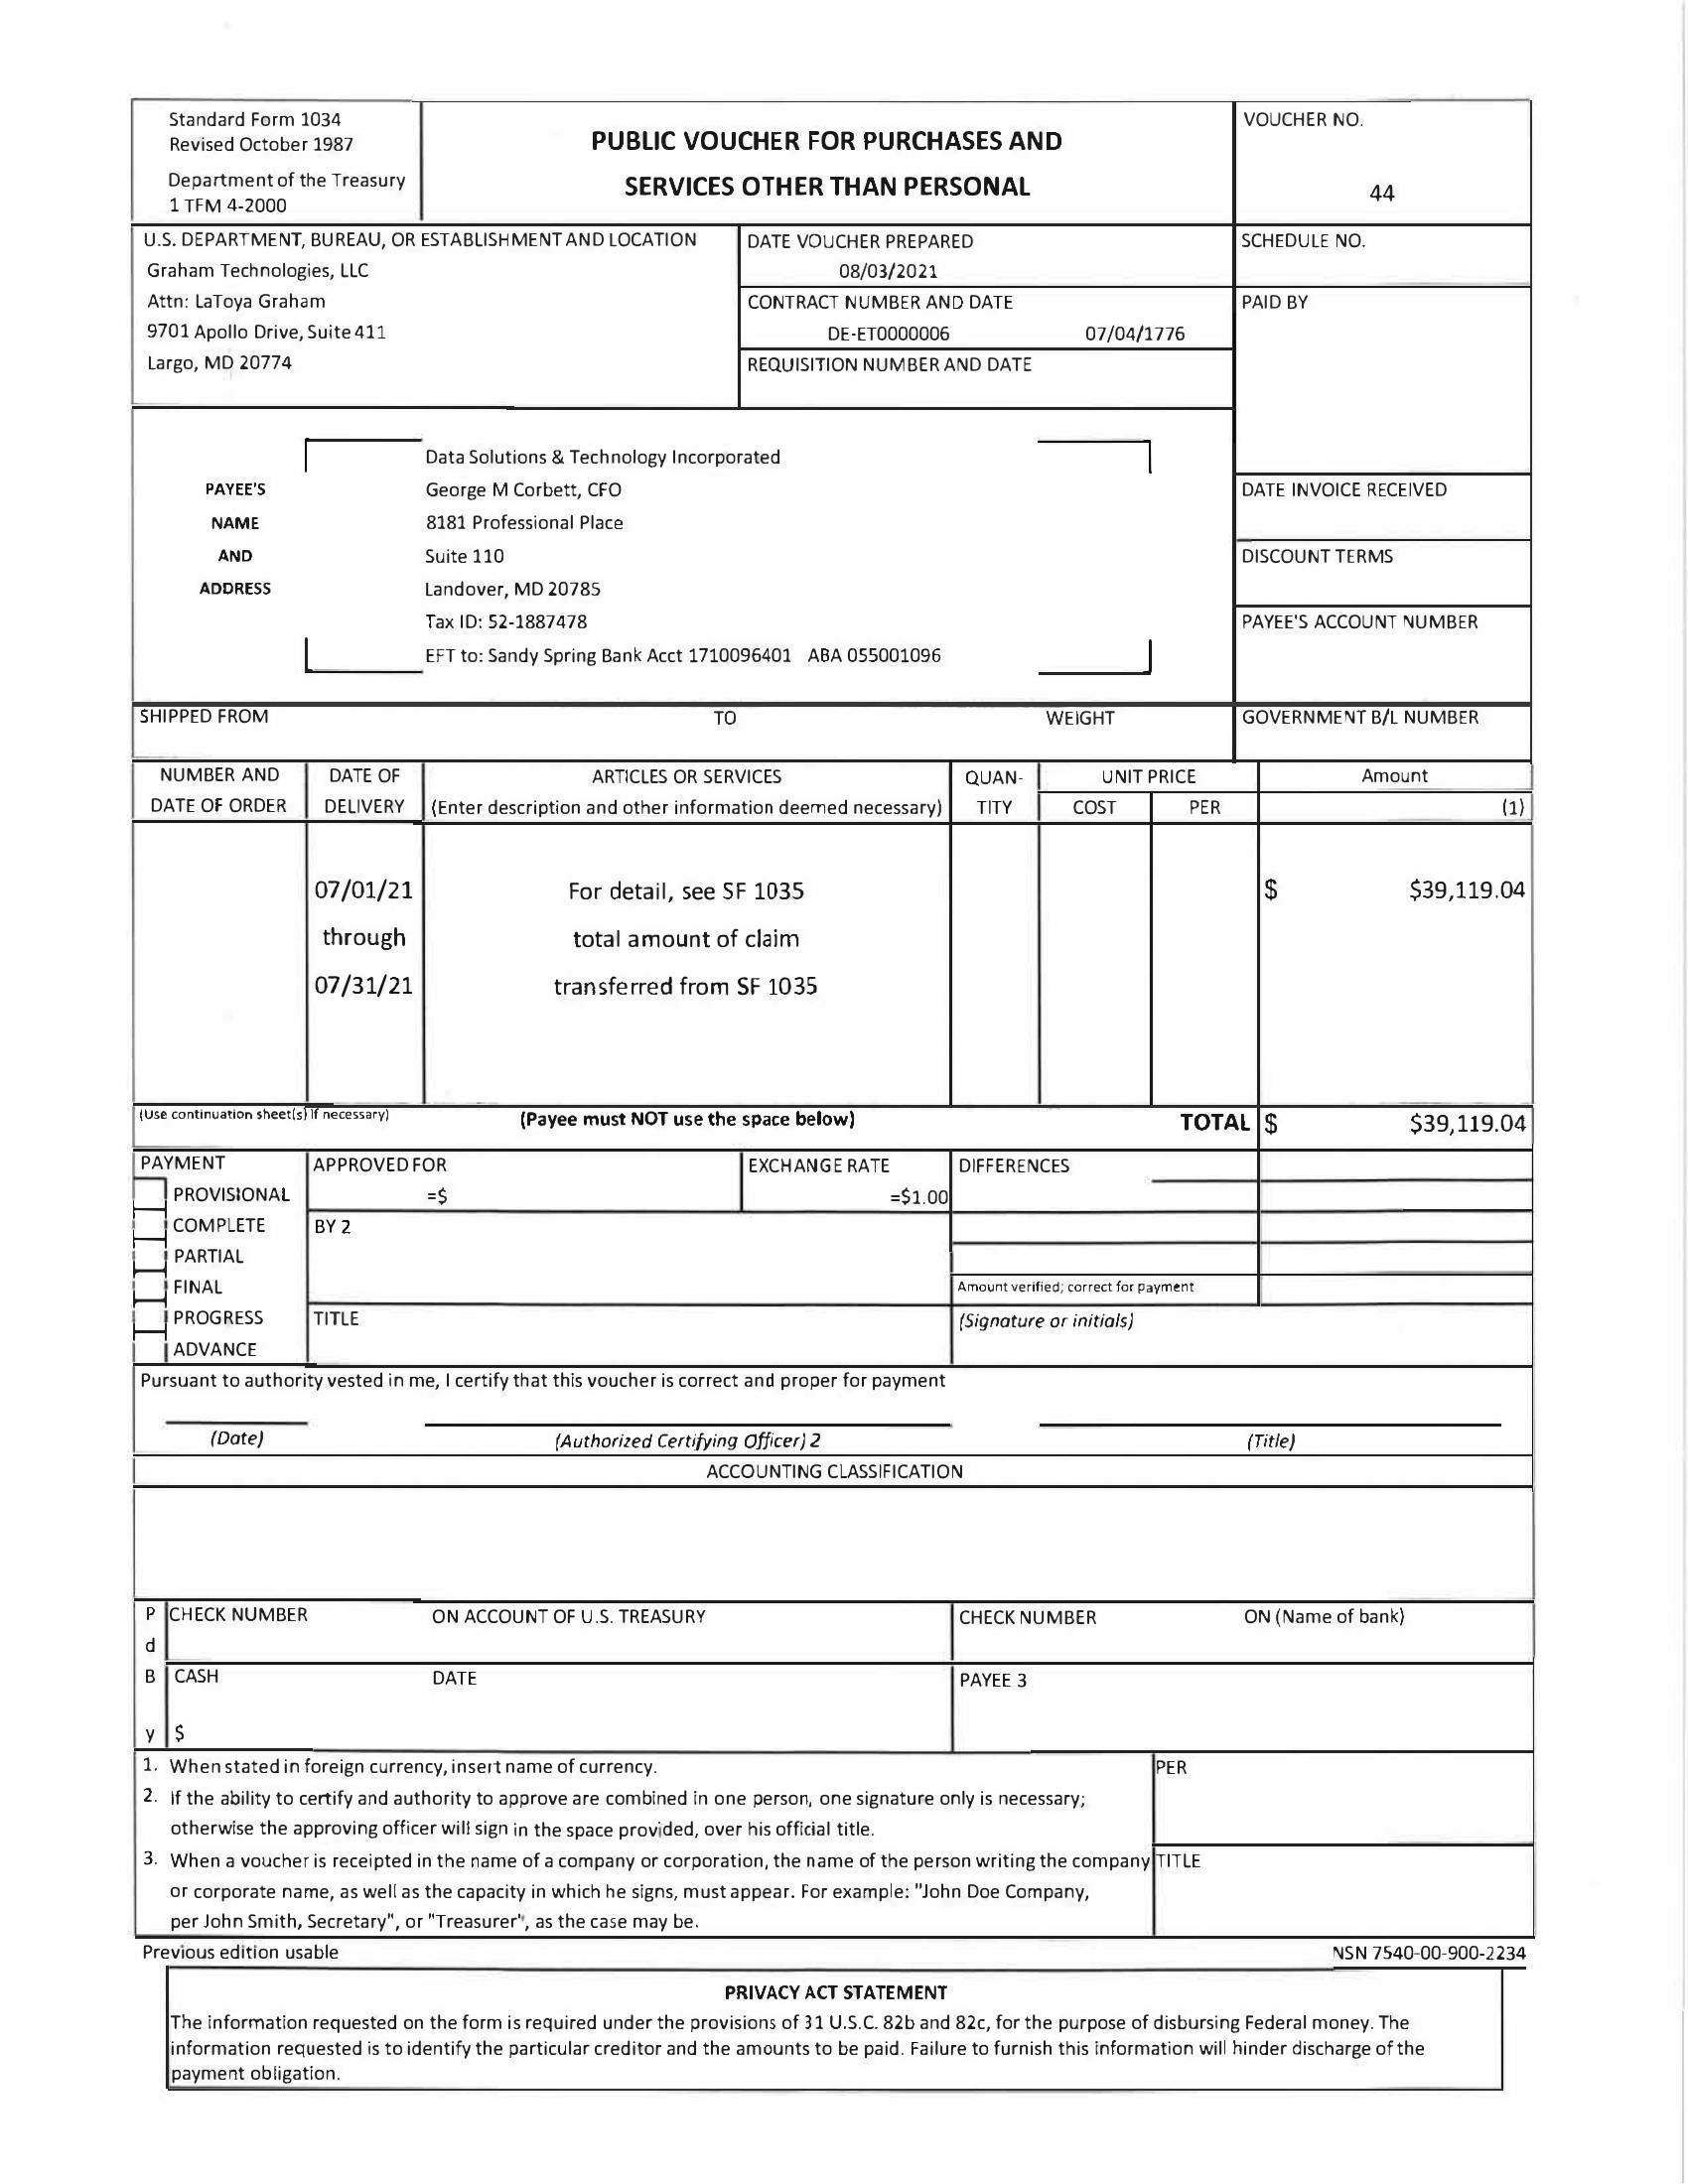table: (128, 748, 1539, 1106)
